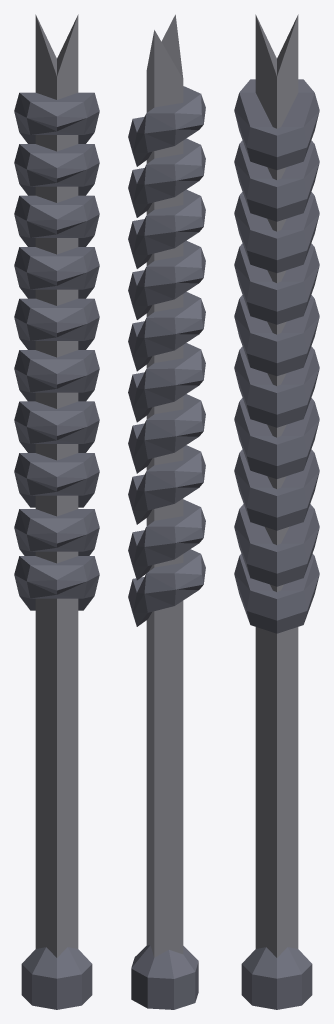
File: _hammer_24.fbx
3 renders of one model, left to right at view 1: azimuth 90°, elevation 25°; view 2: azimuth 150°, elevation 25°; view 3: azimuth 270°, elevation 25°, orthographic.
Parts seen in each view (by area): view 1: hammer_24; view 2: hammer_24; view 3: hammer_24.
Part boxes in pixels (bbox=[...]): hammer_24: bbox=[14, 14, 99, 1009]; hammer_24: bbox=[128, 14, 205, 1009]; hammer_24: bbox=[234, 14, 319, 1009].
Size of the model in its own units: 6.58 by 80.79 by 6.39.
